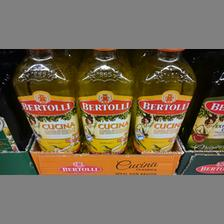Oel: (10, 49, 78, 152), (132, 49, 196, 152), (74, 50, 134, 152)
